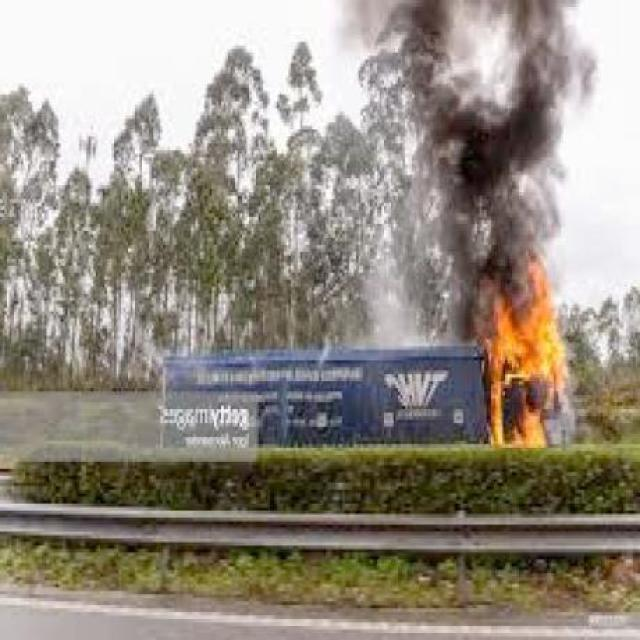Fire: (480, 266, 572, 467)
Smoke: (352, 2, 608, 266)
